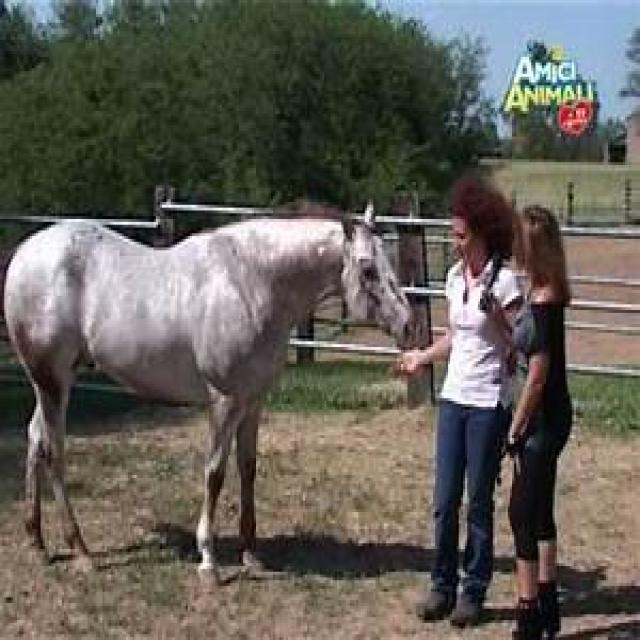horse: (0, 199, 414, 589)
